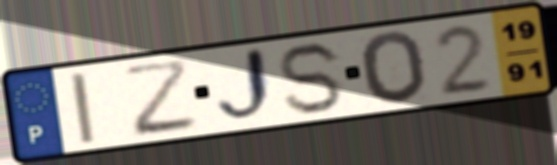2: (431, 23, 495, 99)
I: (65, 69, 99, 147)
J: (213, 44, 280, 129)
O: (357, 28, 431, 108)
S: (276, 39, 349, 118)
Z: (118, 55, 203, 140)
